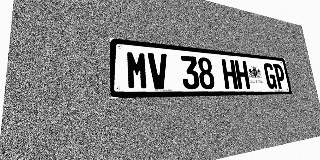3: (180, 55, 200, 89)
8: (197, 57, 215, 89)
G: (263, 63, 277, 89)
H: (221, 59, 238, 89), (234, 60, 250, 89)
M: (126, 50, 149, 89)
P: (273, 64, 287, 89)
V: (148, 52, 169, 89)
